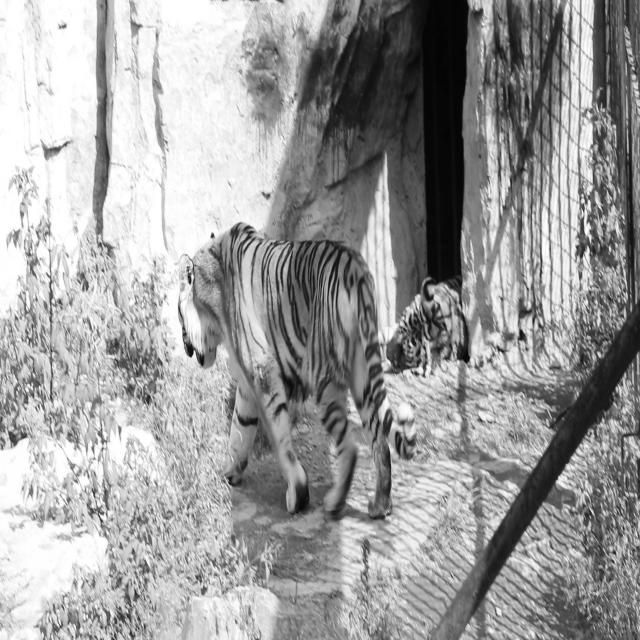Tiger: (177, 220, 417, 520)
